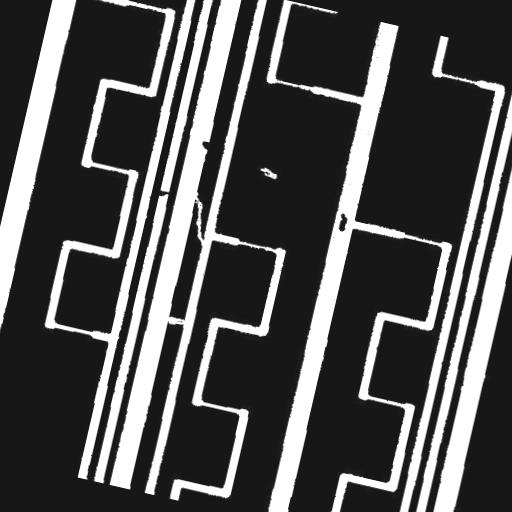copper: (328, 204, 358, 240)
open: (174, 183, 224, 256), (154, 306, 197, 336)
pin-hole: (249, 157, 287, 188)
short: (146, 180, 178, 207)
spur: (191, 132, 224, 164)
